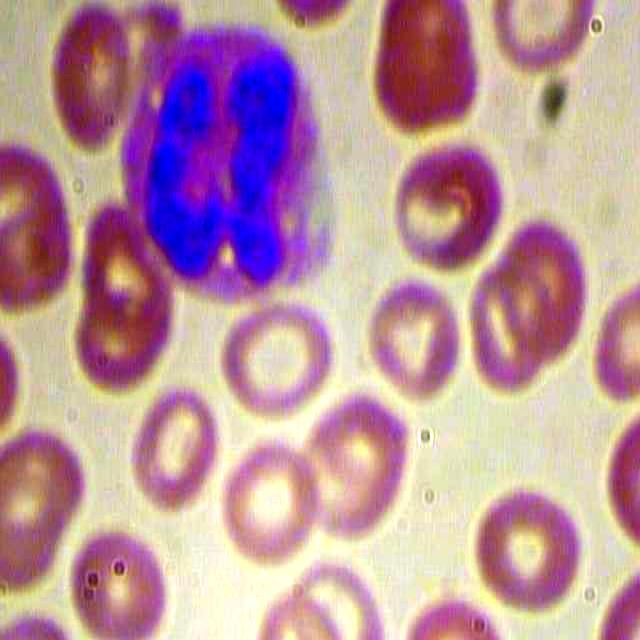RBC: (293, 388, 416, 545), (376, 139, 510, 277), (462, 491, 597, 616), (219, 299, 347, 420), (35, 2, 131, 154), (219, 433, 327, 567), (362, 271, 470, 404), (374, 2, 482, 134), (124, 381, 222, 520), (461, 260, 561, 395), (1, 146, 76, 322), (69, 524, 174, 639)
WBC: (117, 24, 355, 313)
